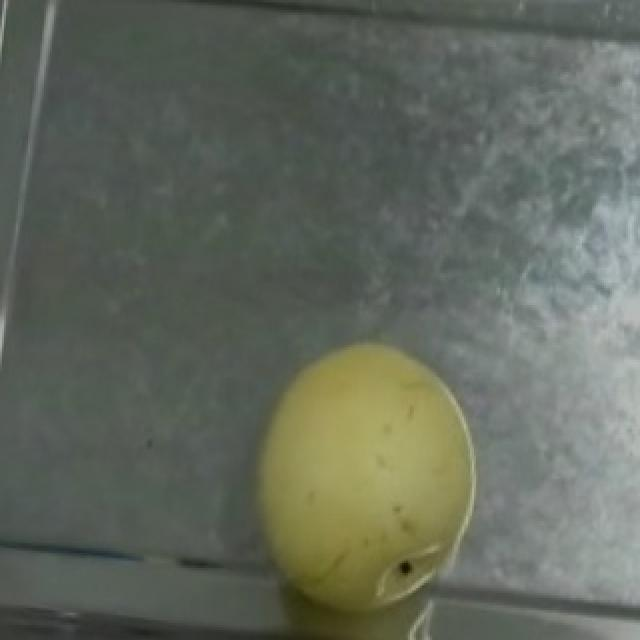Fruit: (220, 320, 498, 638)
